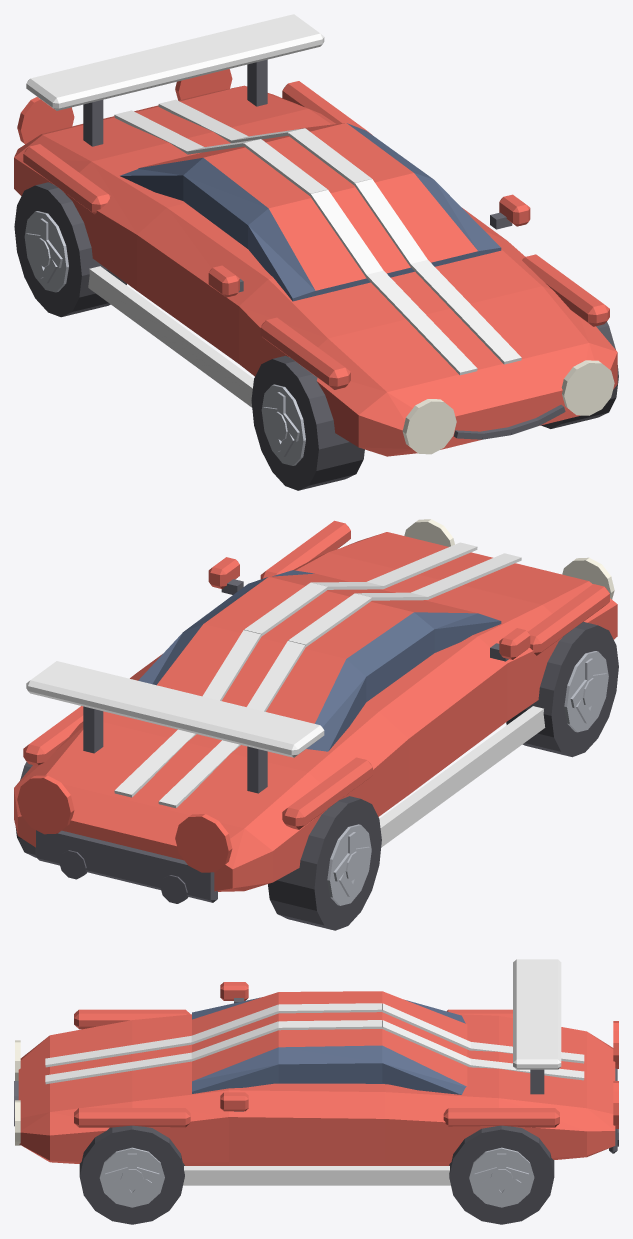
File: Car_blaze.fbx
3 views of the same model, one above another, from view 1: azimuth 30°, elevation 25°; view 2: azimuth 150°, elevation 25°; view 3: azimuth 270°, elevation 25° (orthographic). The views are drawn at different scales.
Visible parts, largest first — view 1: Body, Wheel_FL, Wheel_RL, Wheel_FR; view 2: Body, Wheel_RL, Wheel_FL; view 3: Body, Wheel_FR, Wheel_RR.
Part boxes in pixels (bbox=[...]): Body: bbox=[14, 14, 617, 456]; Wheel_FL: bbox=[251, 355, 364, 490]; Wheel_RL: bbox=[14, 182, 126, 317]; Wheel_FR: bbox=[541, 322, 618, 428]; Body: bbox=[14, 519, 617, 903]; Wheel_RL: bbox=[268, 796, 381, 930]; Wheel_FL: bbox=[506, 622, 618, 757]; Body: bbox=[14, 959, 618, 1185]; Wheel_FR: bbox=[79, 1125, 184, 1224]; Wheel_RR: bbox=[449, 1125, 554, 1224].
Size of what is drawn, in the model's own units: 1.98 by 1.23 by 4.26.
